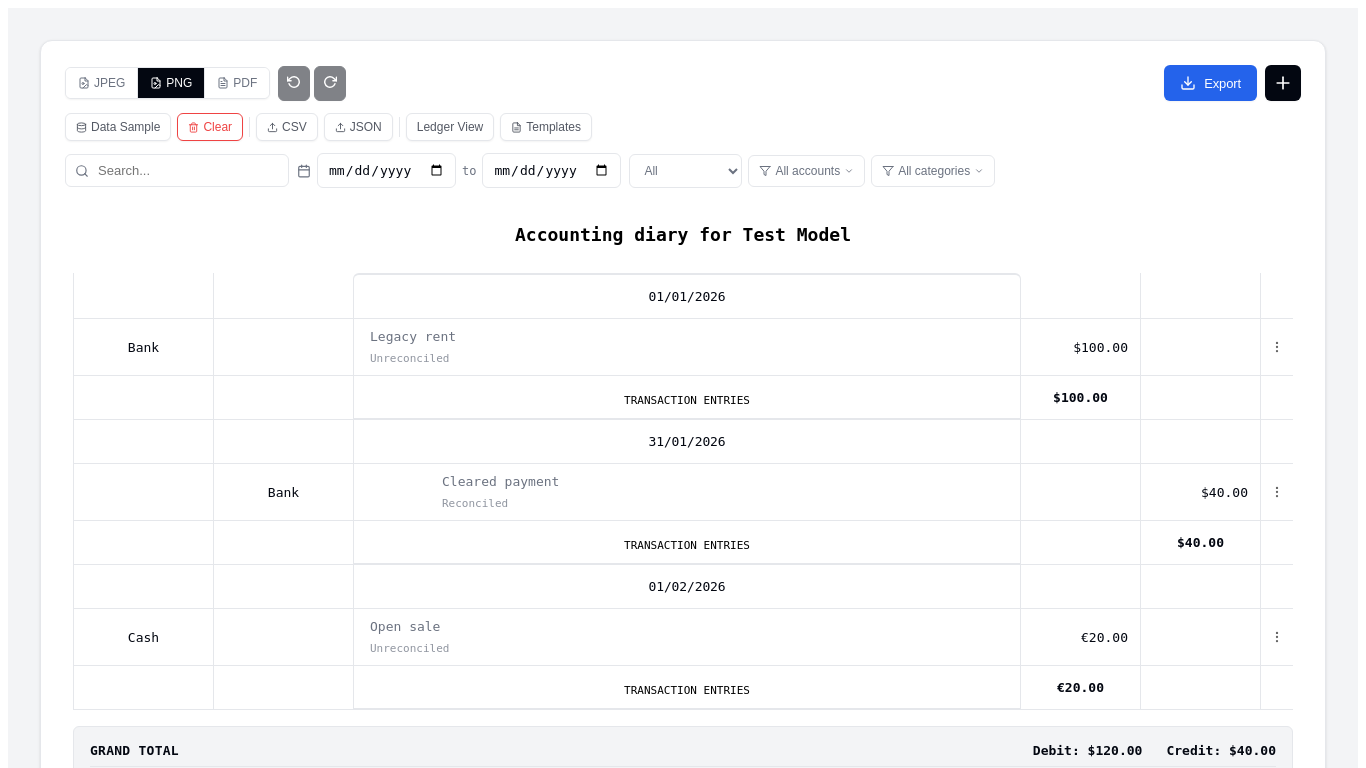
it: component and ref API › applies reconciliation to the ledger view and shows the status
Click the button titled "Ledger View".
click(450, 127)  # box [406,113,494,141]
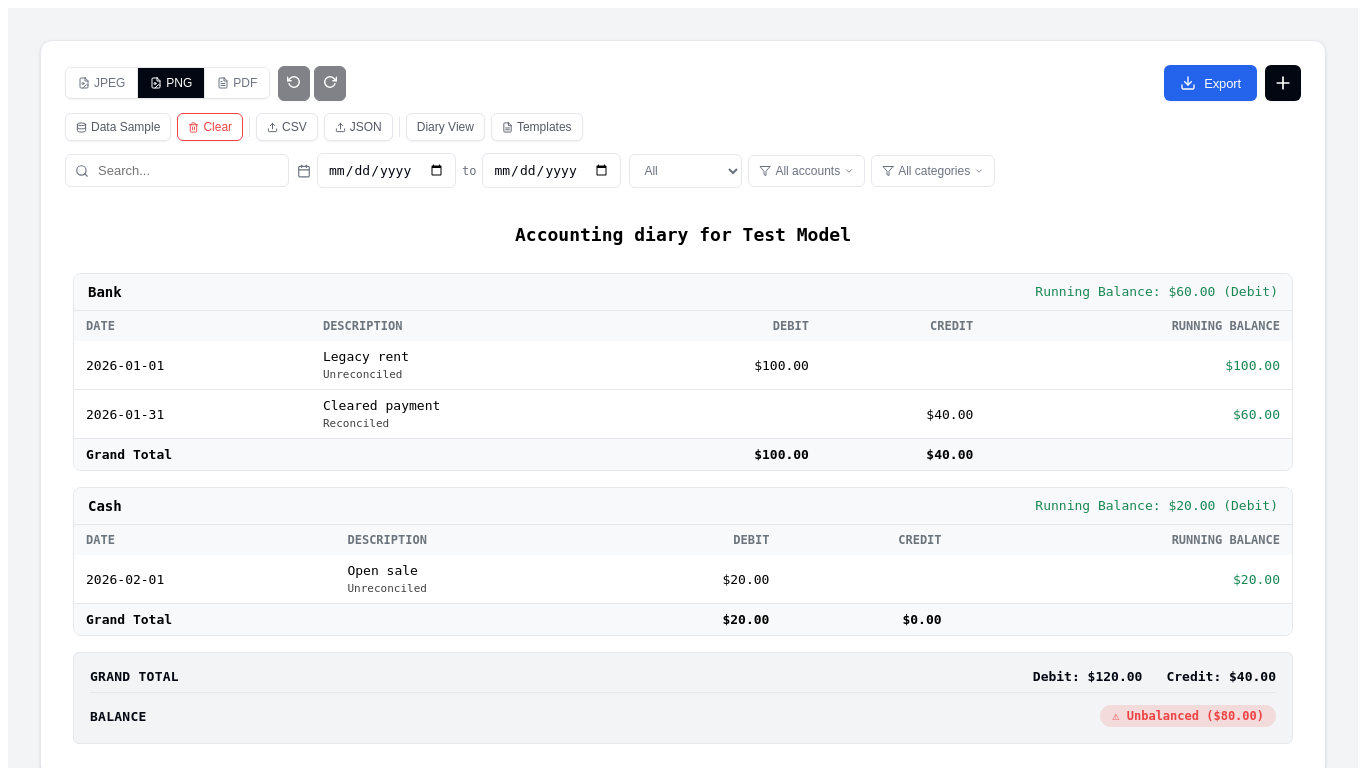
Select "Reconciled" in the dropdown named "Reconciliation" at (686, 170), box [630,154,742,188]
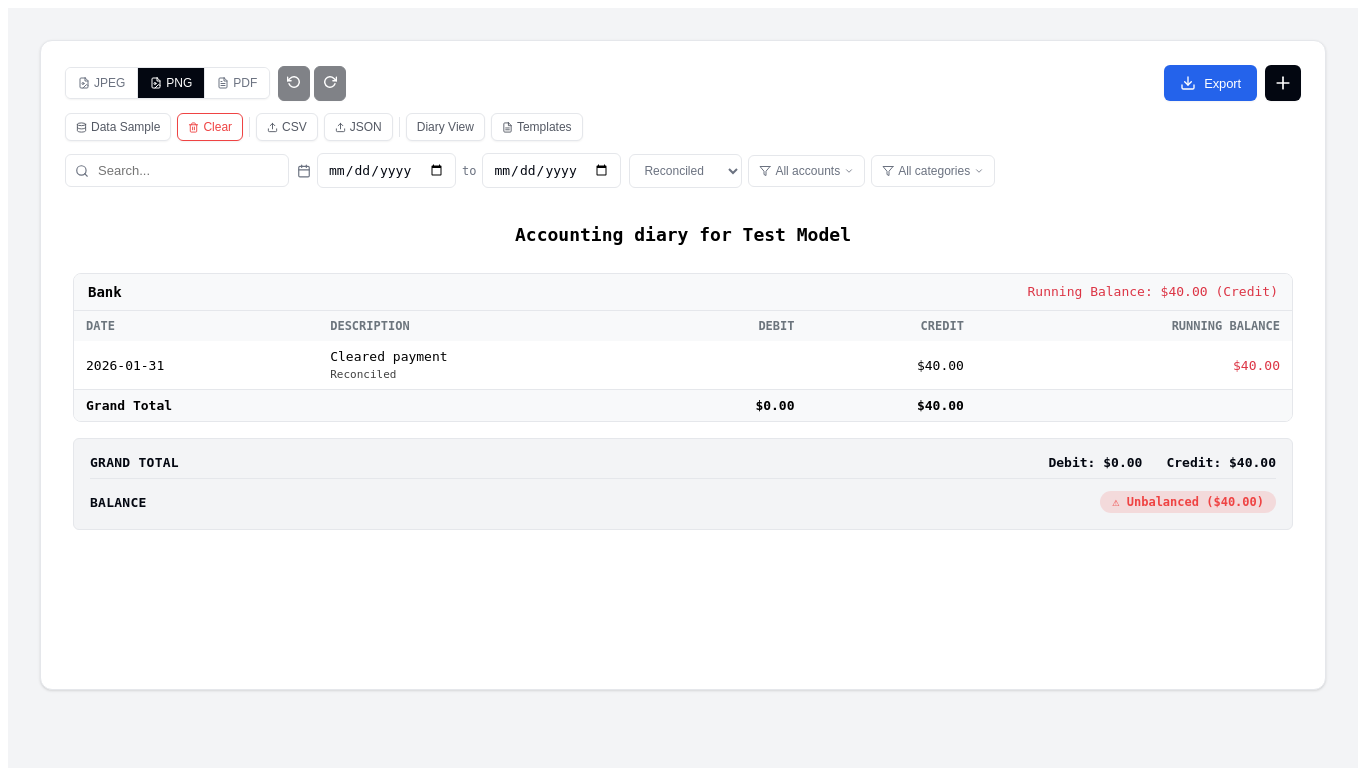
Expected: the text "Cleared payment" is shown, [330,349,448,364]
Expected: the text "Legacy rent" is gone
Expected: the text "Open sale" is gone
